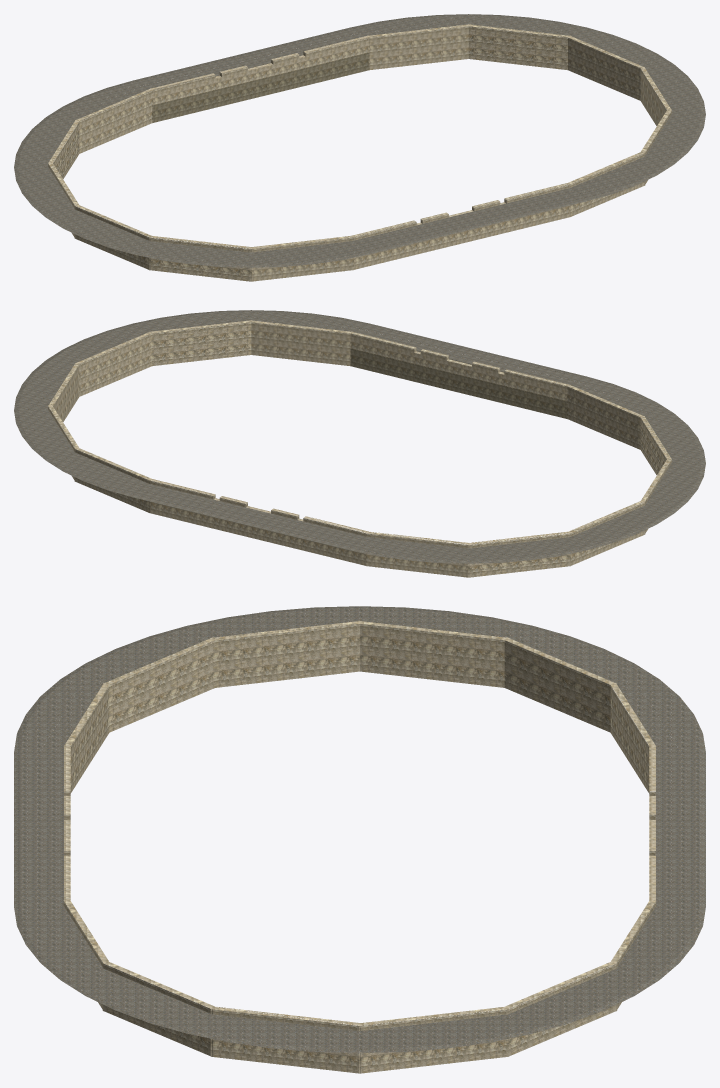
Rendered from bw-quay.gaps-v1.lod1.glb.
3 views of the same model, one above another, from view 1: azimuth 30°, elevation 25°; view 2: azimuth 150°, elevation 25°; view 3: azimuth 270°, elevation 25° (orthographic). The views are drawn at different scales.
Visible parts, largest first — view 1: bw-quay; view 2: bw-quay; view 3: bw-quay.
Boxes of the visible parts, x1,y1,x2,y2 form: bw-quay: [14, 14, 705, 281]; bw-quay: [14, 310, 705, 577]; bw-quay: [14, 606, 705, 1073].
Bounding box in the file's own units: 159 × 7.96 × 104.
Materials: 2 (2 with a texture image).
